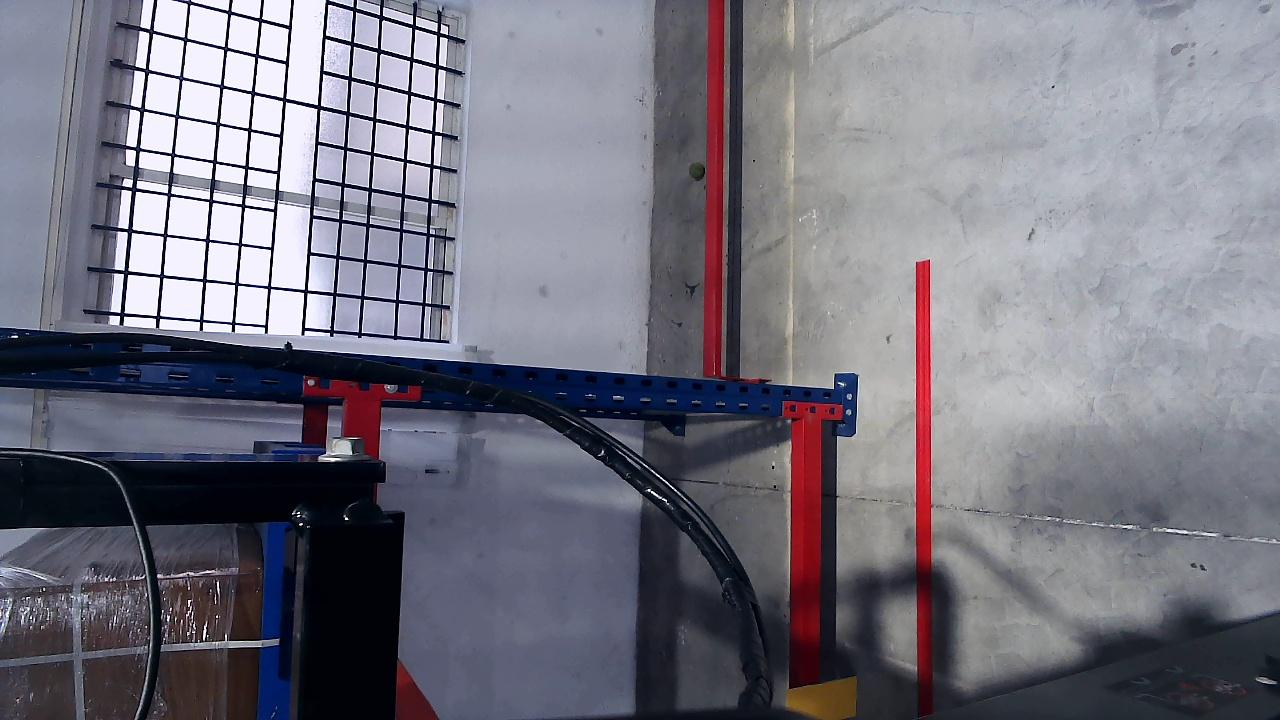h_rack: (791, 417, 825, 718)
orange_strip: (787, 677, 859, 719)
red_line: (914, 258, 932, 717)
